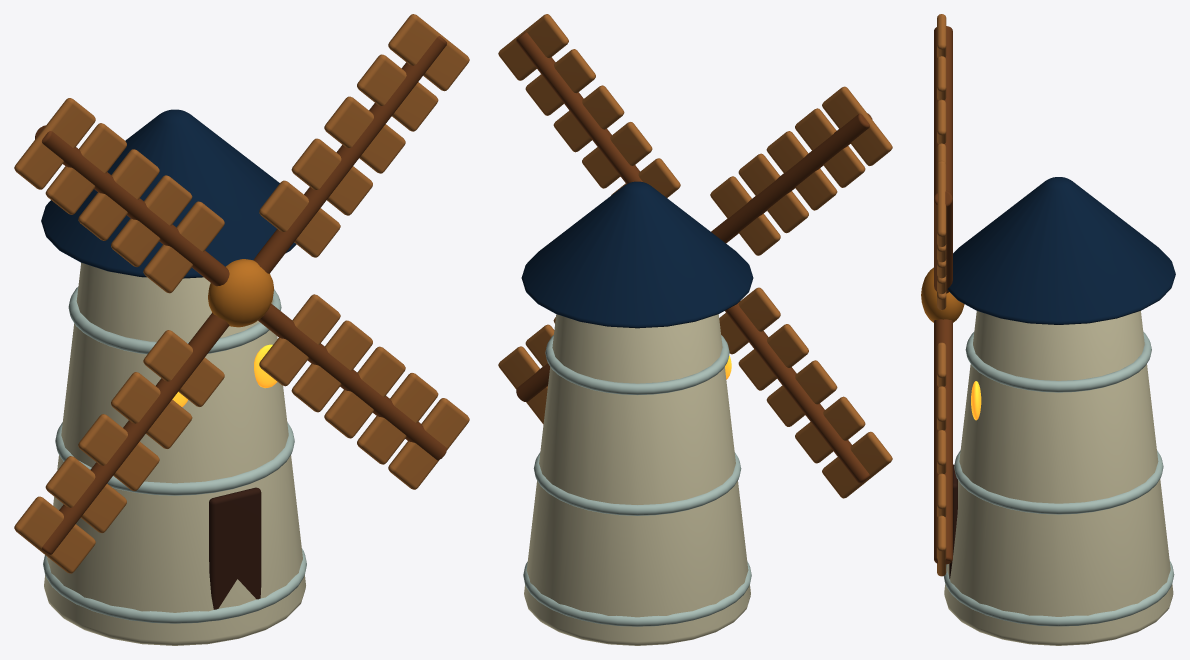
Rendered from windmill_mechanism.glb.
3 renders of one model, left to right at view 1: azimuth 30°, elevation 25°; view 2: azimuth 150°, elevation 25°; view 3: azimuth 270°, elevation 25°, orthographic. The views are drawn at different scales.
Parts seen in each view (by area): view 1: windmill_tower, windmill_roof, windmill_door, wind_sail_arm.002, wind_sail_arm, wind_sail_arm.001, wind_sail_arm.003, tower_band, windmill_hub, wind_sail_panel.009, wind_sail_panel.019, wind_sail_panel.006 (+19 smaller); view 2: windmill_tower, windmill_roof, wind_sail_arm.001, wind_sail_arm.002, wind_sail_arm, tower_band.001, tower_band.002, tower_band, wind_sail_panel.009, wind_sail_panel.006, wind_sail_panel.007, wind_sail_panel.005 (+14 smaller); view 3: windmill_tower, windmill_roof, wind_sail_arm.003, tower_band.001, tower_band.002, tower_band, wind_sail_arm.001, windmill_hub, wind_sail_arm, wind_sail_panel.004, wind_sail_panel.019, wind_sail_panel.015 (+6 smaller).
Boxes of the visible parts, x1,y1,x2,y2 form: windmill_tower: [44, 262, 305, 645]; windmill_roof: [41, 109, 296, 278]; windmill_door: [209, 487, 261, 609]; wind_sail_arm.002: [42, 312, 229, 554]; wind_sail_arm: [253, 36, 446, 273]; wind_sail_arm.001: [35, 125, 229, 286]; wind_sail_arm.003: [258, 303, 446, 460]; tower_band: [43, 548, 306, 623]; windmill_hub: [208, 259, 273, 327]; wind_sail_panel.009: [14, 98, 95, 189]; wind_sail_panel.019: [388, 398, 469, 489]; wind_sail_panel.006: [111, 175, 192, 266]; windmill_tower: [524, 314, 750, 645]; windmill_roof: [521, 181, 753, 328]; wind_sail_arm.001: [711, 113, 872, 243]; wind_sail_arm.002: [725, 302, 869, 483]; wind_sail_arm: [516, 32, 642, 183]; tower_band.001: [533, 452, 741, 515]; tower_band.002: [545, 335, 729, 395]; tower_band: [523, 561, 751, 626]; wind_sail_panel.009: [822, 86, 892, 165]; wind_sail_panel.006: [738, 153, 808, 233]; wind_sail_panel.007: [766, 131, 837, 210]; wind_sail_panel.005: [710, 176, 780, 255]; windmill_tower: [944, 311, 1173, 645]; windmill_roof: [947, 177, 1175, 324]; wind_sail_arm.003: [934, 319, 952, 564]; tower_band.001: [954, 450, 1163, 514]; tower_band.002: [965, 332, 1151, 392]; tower_band: [943, 560, 1174, 626]; wind_sail_arm.001: [934, 26, 952, 198]; windmill_hub: [921, 267, 964, 322]; wind_sail_arm: [934, 190, 952, 293]; wind_sail_panel.004: [937, 160, 946, 246]; wind_sail_panel.019: [937, 515, 946, 576]; wind_sail_panel.015: [937, 342, 946, 386].
Size of the model in its own units: 2.66 by 3.28 by 1.48.
